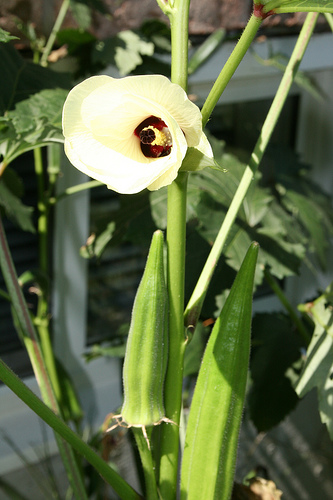okra: (172, 236, 264, 498), (120, 225, 172, 428)
